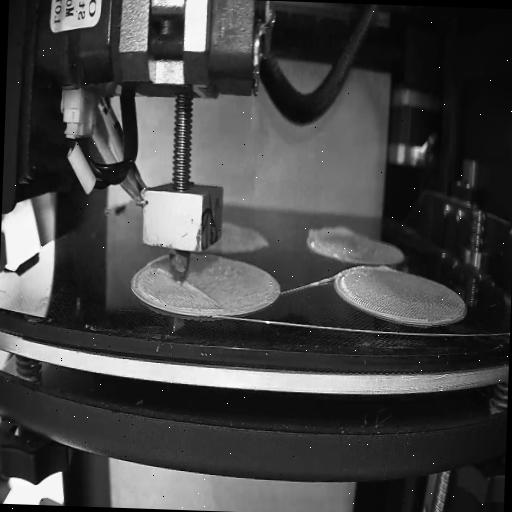over_extrusion: (299, 223, 354, 243), (182, 280, 220, 305), (376, 259, 398, 274), (152, 264, 172, 277)
